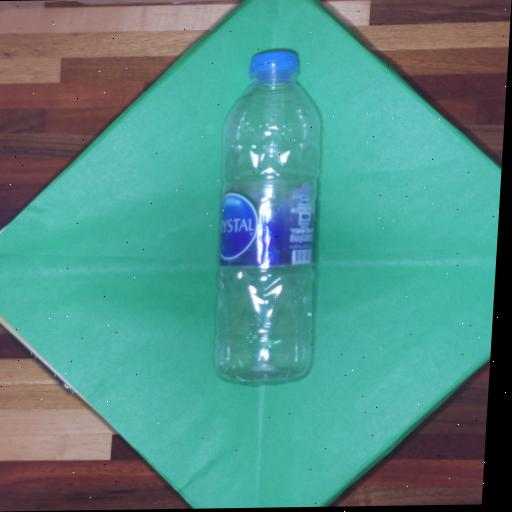bottle: (216, 51, 320, 380)
